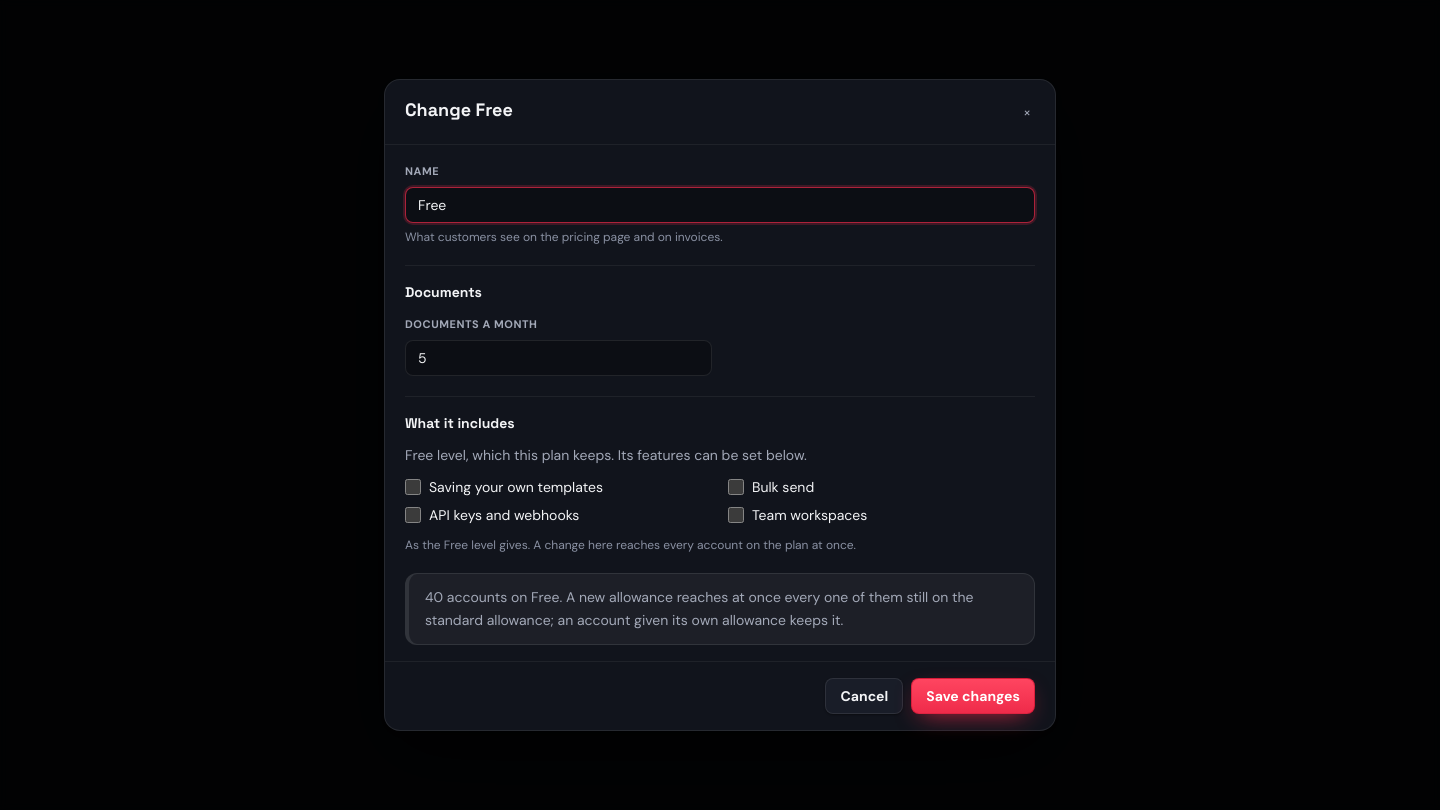
the plan dialog › shows for Free its name, its allowance and its features, and nothing about price or sale
Check: the field labelled "Name" holds "Free", box [405, 187, 1035, 223]
Check: the number field labelled "Documents a month" holds "5", box [405, 340, 712, 376]
Click the checkbox labelled "Bulk send" at (736, 487), box [728, 479, 744, 495]
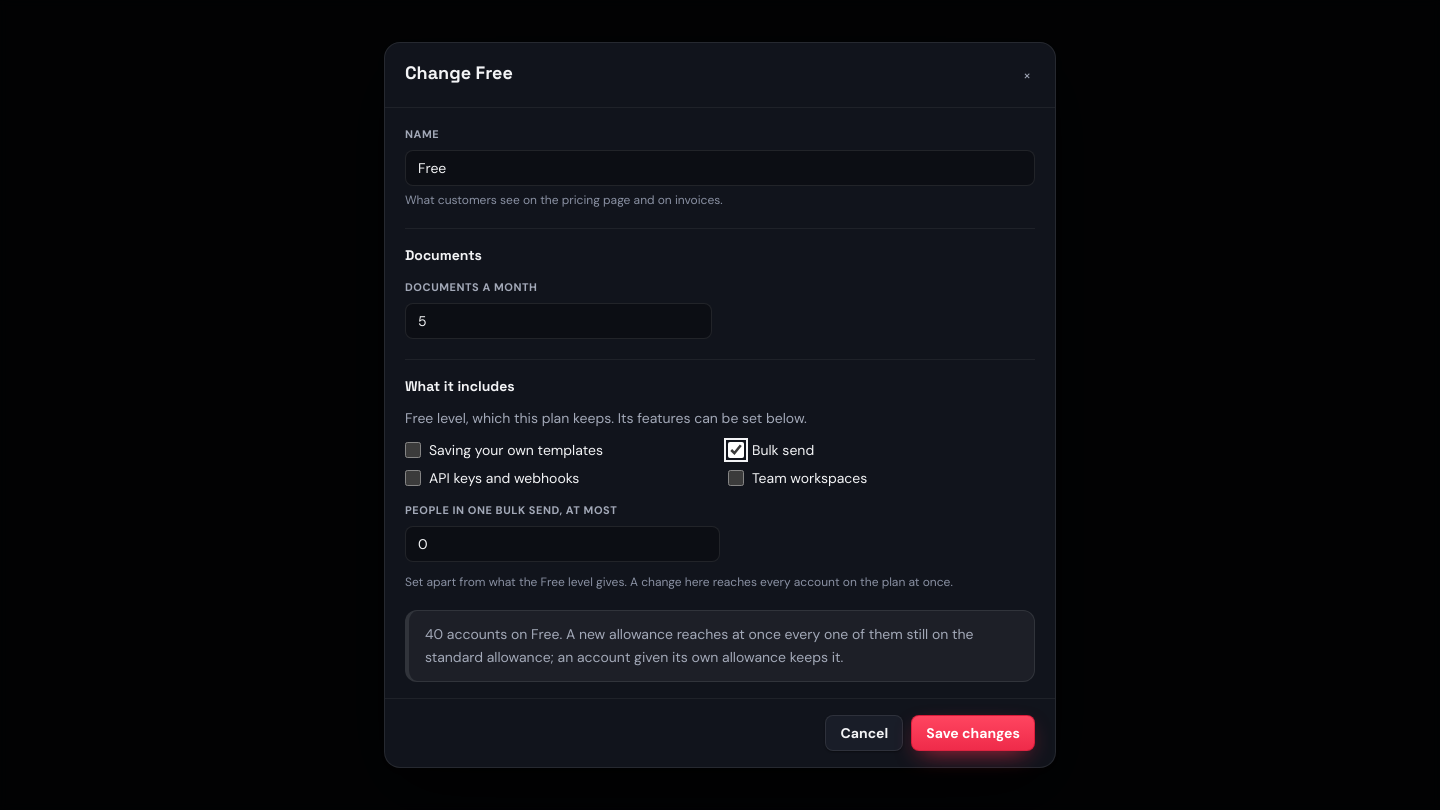
Click the button "Save changes" at (973, 733), box [911, 715, 1035, 751]
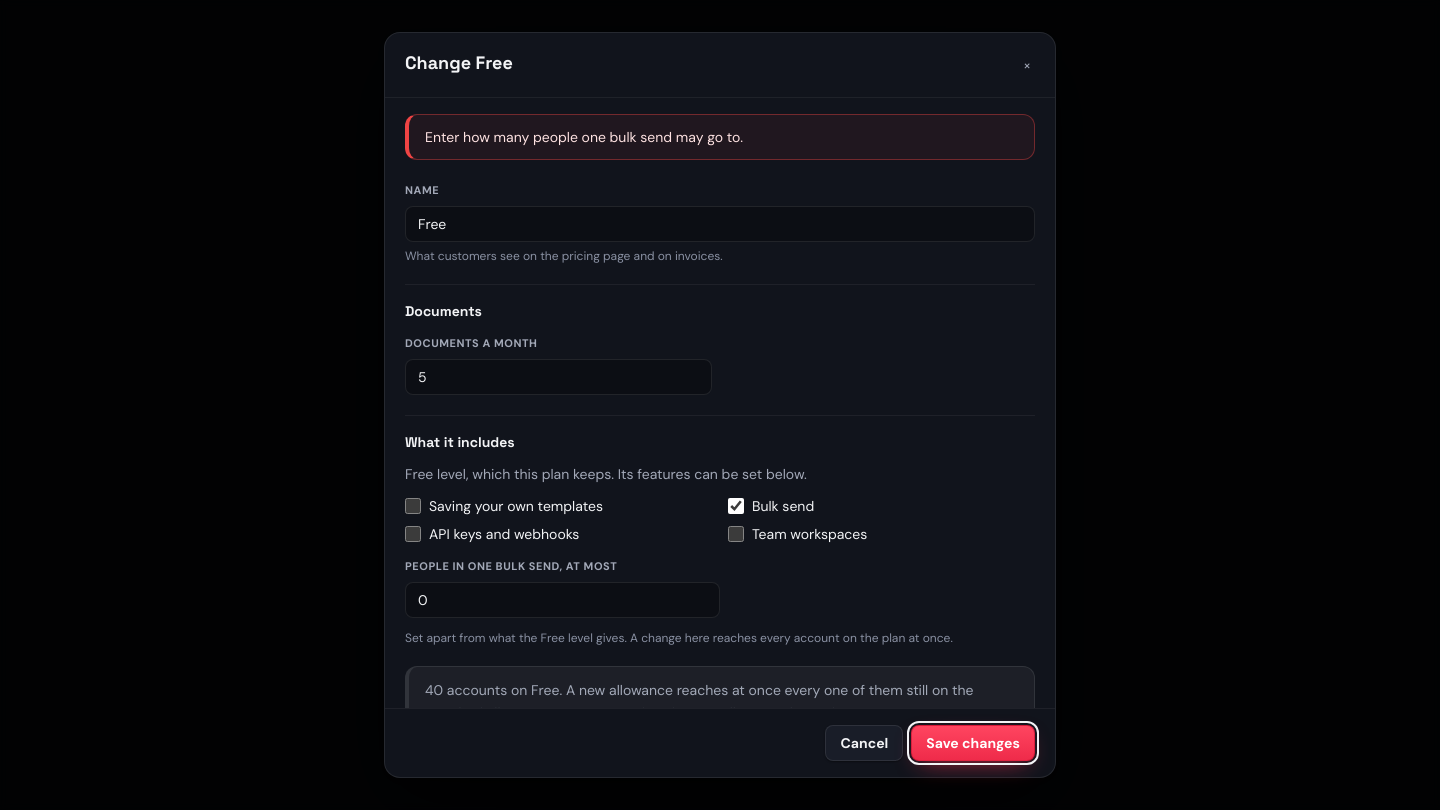
Check: the message reads "Enter how many people one bulk send may go to.", box [425, 128, 743, 146]
